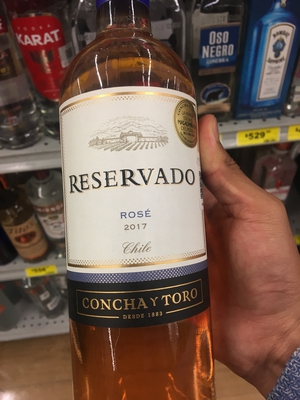reservado rose: (52, 13, 220, 395)
